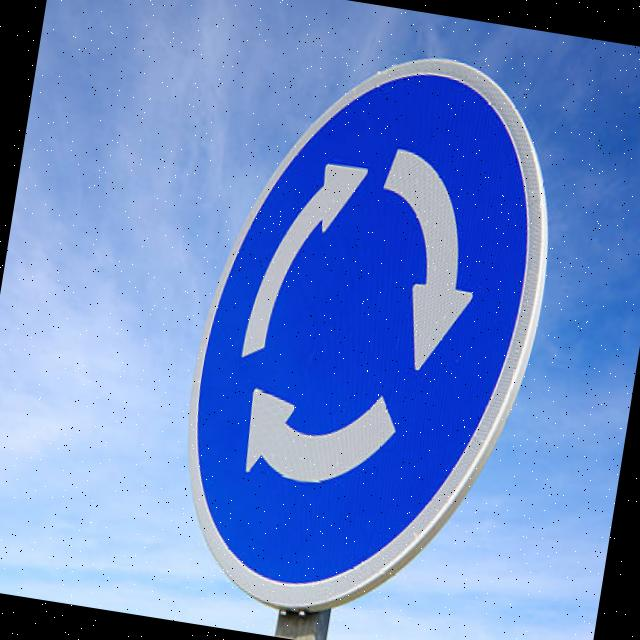round_about: (152, 5, 588, 640)
